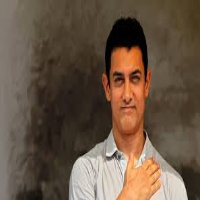ring: (148, 169, 162, 185)
